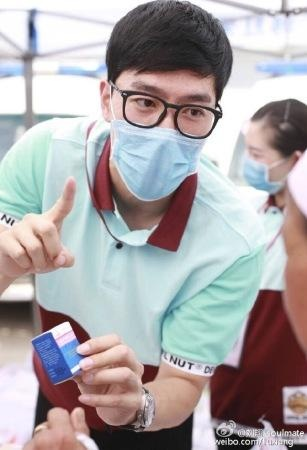correctlyWear: (97, 63, 224, 202), (238, 124, 307, 195)
